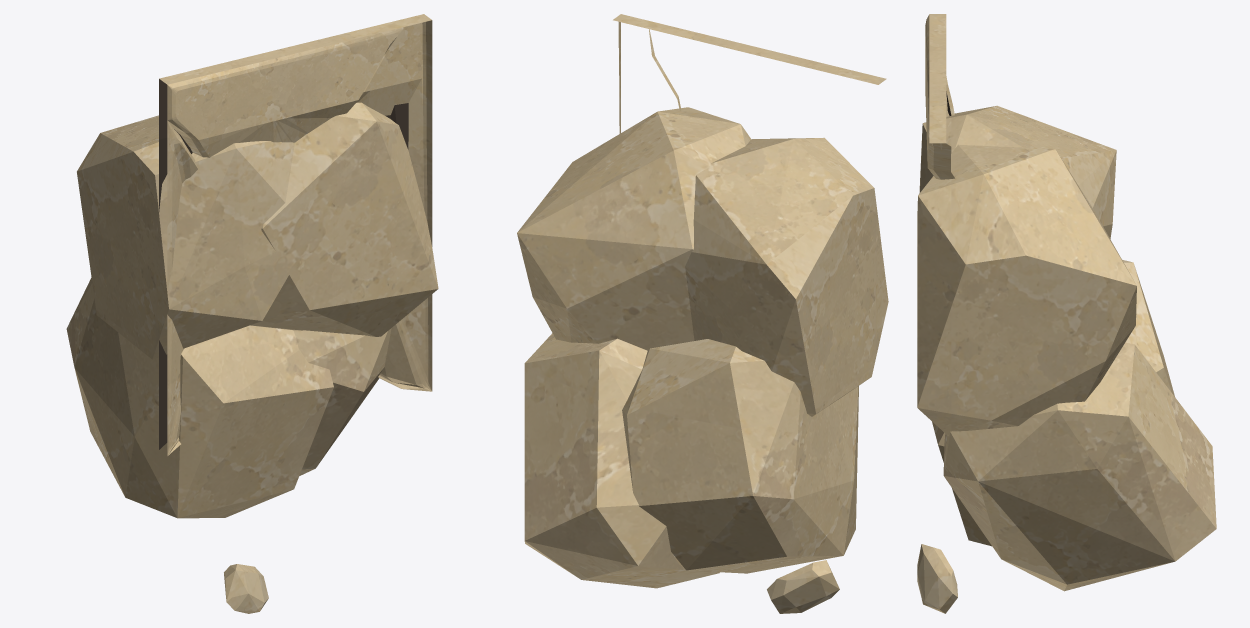
Rendered from ground_bottom_square_edge_01.glb.
3 views of the same model, side by side, from view 1: azimuth 30°, elevation 25°; view 2: azimuth 150°, elevation 25°; view 3: azimuth 270°, elevation 25° (orthographic).
Parts seen in each view (by area): view 1: GroundBottomSquareEdge01_Body; view 2: GroundBottomSquareEdge01_Body; view 3: GroundBottomSquareEdge01_Body.
Boxes of the visible parts, <box> form: GroundBottomSquareEdge01_Body: <box>66,14,438,613</box>; GroundBottomSquareEdge01_Body: <box>517,14,888,613</box>; GroundBottomSquareEdge01_Body: <box>917,14,1216,613</box>.
Bounding box in the file's own units: 1 × 1.99 × 1.04.
5 materials, 4 textured.
